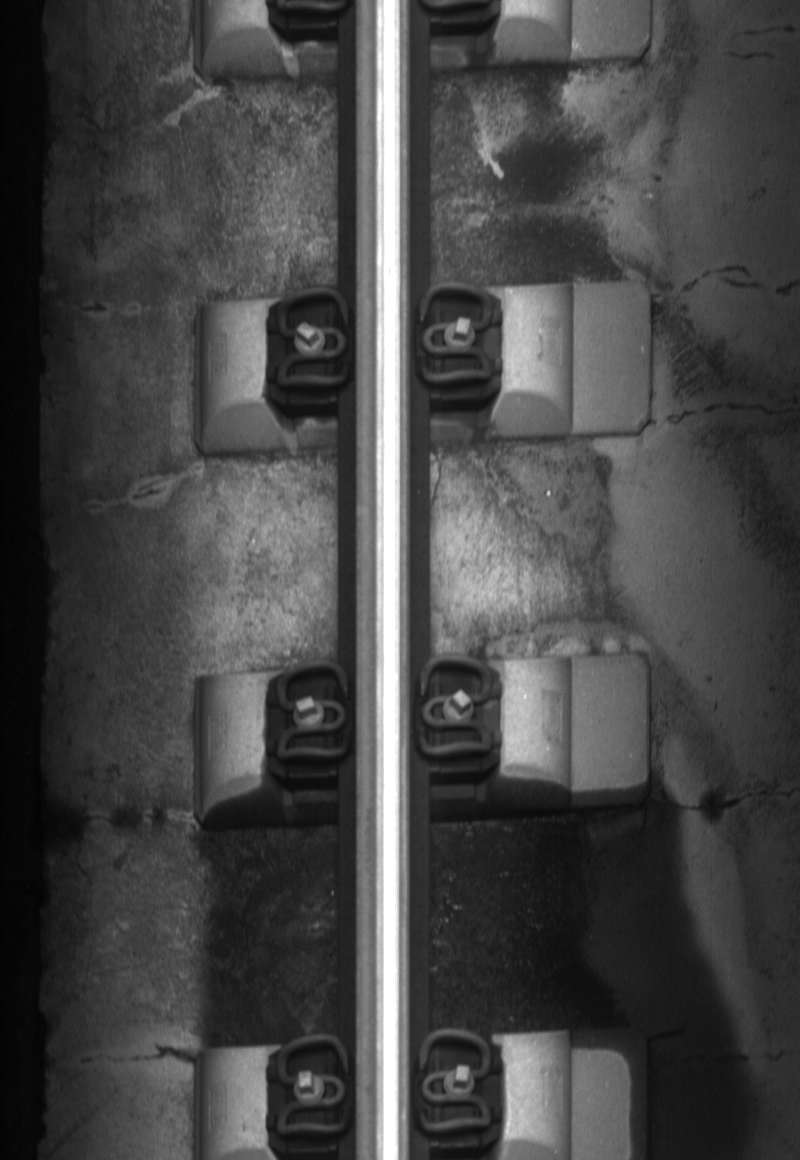l_faster: (271, 1029, 354, 1147), (269, 657, 354, 772), (270, 282, 354, 396)
r_faster: (413, 1021, 496, 1142), (413, 653, 496, 763), (413, 279, 495, 387)
